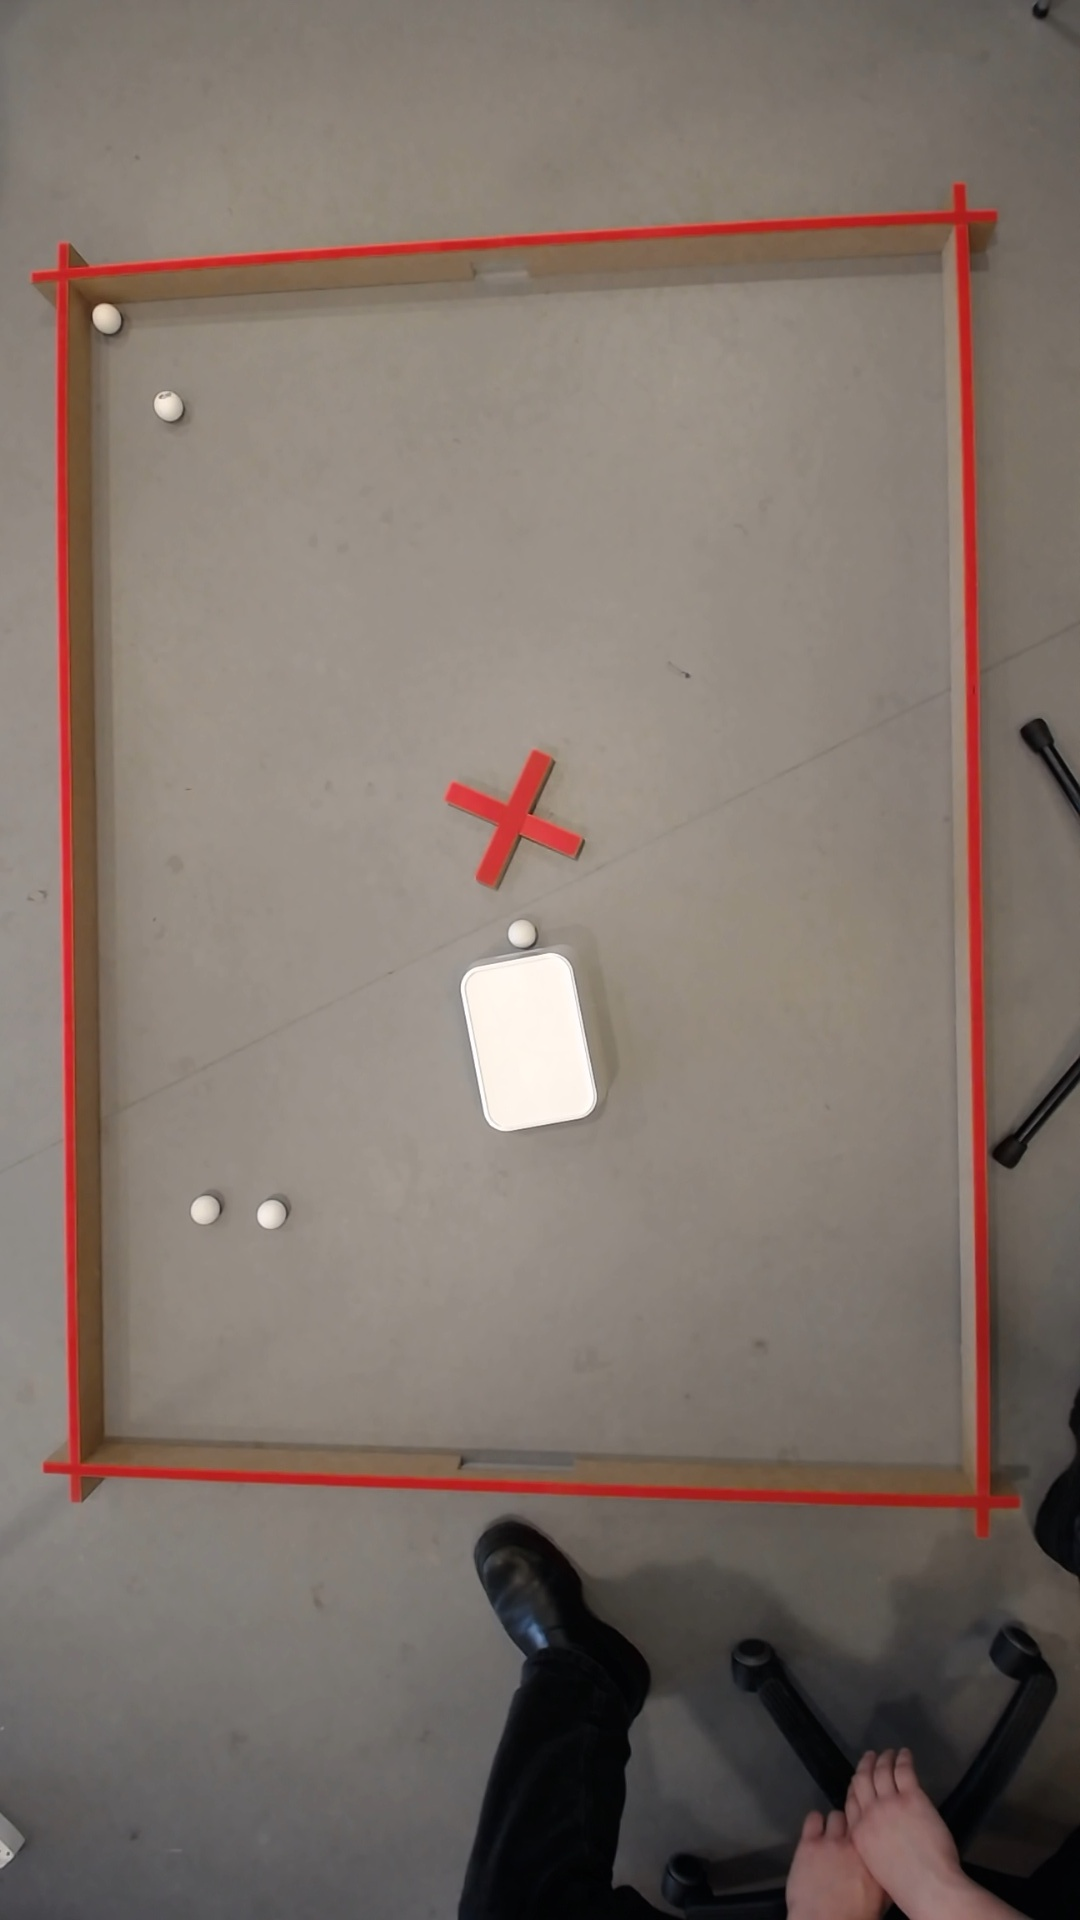balls: (455, 947, 600, 1135), (185, 1192, 218, 1225), (252, 1196, 284, 1230), (502, 918, 534, 948), (152, 392, 181, 421)
car: (87, 301, 117, 328)
